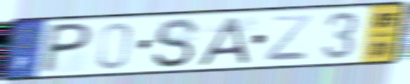0: (95, 20, 134, 71)
3: (320, 9, 362, 62)
A: (194, 15, 251, 68)
P: (35, 21, 96, 76)
S: (149, 16, 202, 70)
Z: (262, 13, 315, 63)
